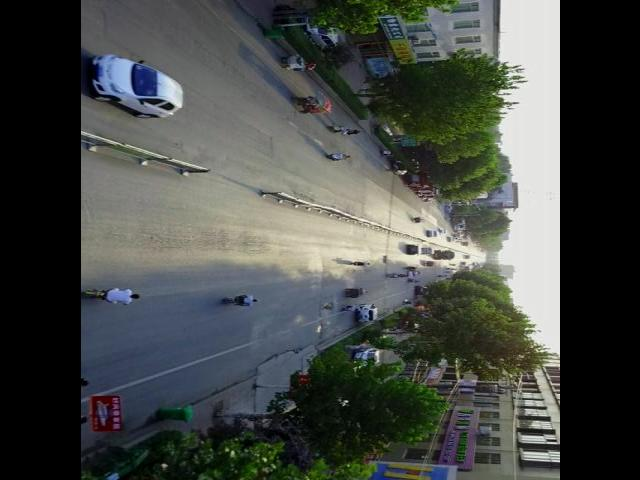out of water: (100, 288, 138, 304), (230, 294, 257, 306), (296, 96, 321, 108), (296, 59, 318, 71), (333, 152, 349, 161), (334, 126, 349, 134), (380, 150, 396, 157), (356, 287, 366, 297), (346, 304, 362, 310), (344, 129, 359, 135), (343, 306, 358, 312), (356, 261, 370, 267), (384, 168, 400, 172), (398, 274, 408, 277), (409, 280, 419, 283), (391, 274, 399, 277), (408, 267, 417, 269)
